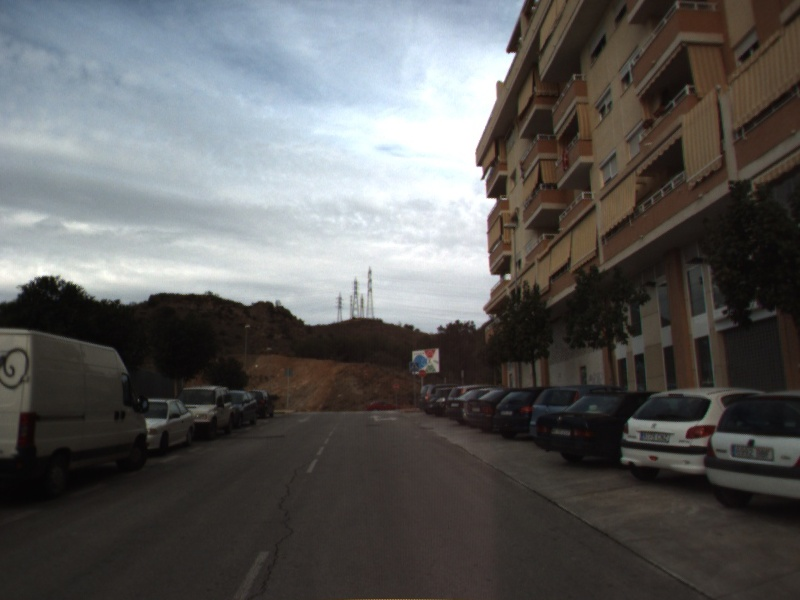STRAIGHT_RIGHT: (366, 413, 400, 423)
